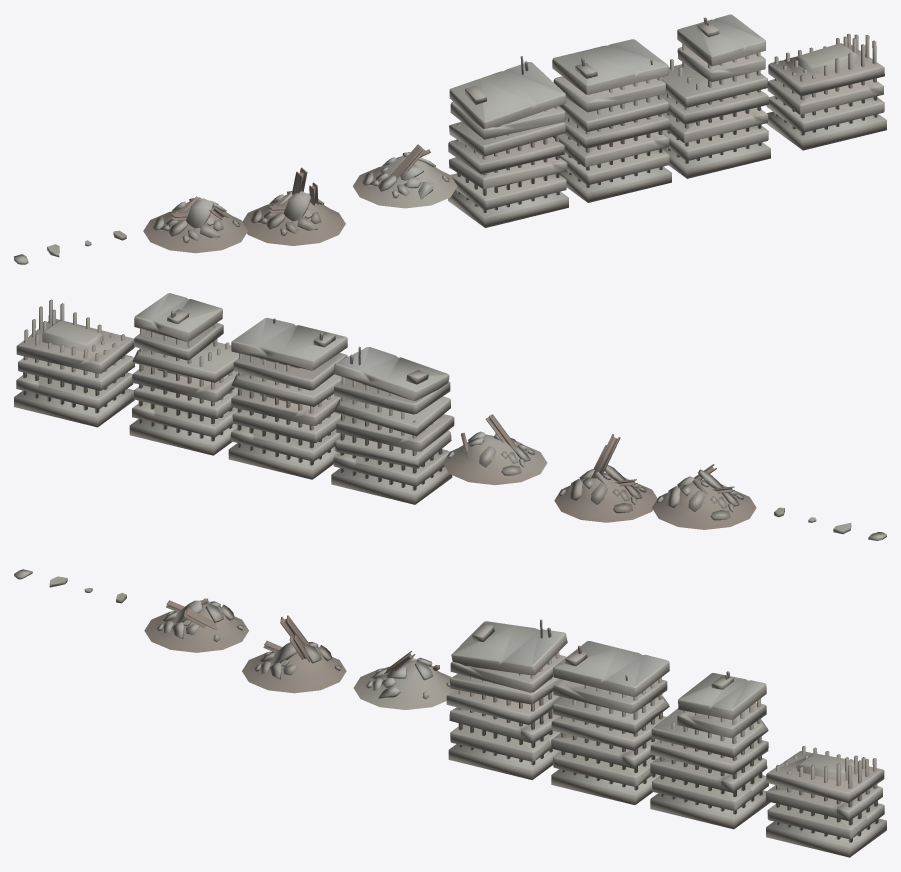
Rendered from Battlefield_Ruins_A.fbx.
3 views of the same model, one above another, from view 1: azimuth 30°, elevation 25°; view 2: azimuth 150°, elevation 25°; view 3: azimuth 330°, elevation 25° (orthographic).
Visible parts, largest first — view 1: RuinsC, RuinsB, RuinsA, RuinsD, RubbleC, RubbleA, RubbleB; view 2: RuinsC, RuinsB, RuinsA, RuinsD, RubbleC, RubbleA, RubbleB; view 3: RuinsB, RuinsC, RuinsA, RuinsD, RubbleC, RubbleB, RubbleA.
Part boxes in pixels (bbox=[...]): RuinsC: bbox=[448, 56, 568, 227]; RuinsB: bbox=[552, 39, 671, 202]; RuinsA: bbox=[661, 14, 770, 178]; RuinsD: bbox=[766, 34, 886, 150]; RubbleC: bbox=[242, 167, 345, 245]; RubbleA: bbox=[353, 144, 457, 208]; RubbleB: bbox=[143, 196, 247, 253]; RuinsC: bbox=[331, 346, 454, 504]; RuinsB: bbox=[228, 318, 347, 479]; RuinsA: bbox=[129, 293, 243, 455]; RuinsD: bbox=[14, 299, 134, 427]; RubbleC: bbox=[554, 434, 657, 522]; RubbleA: bbox=[443, 414, 547, 485]; RubbleB: bbox=[652, 464, 756, 529]; RuinsB: bbox=[551, 641, 669, 804]; RuinsC: bbox=[446, 619, 567, 779]; RuinsA: bbox=[650, 671, 770, 829]; RuinsD: bbox=[766, 746, 886, 857]; RubbleC: bbox=[242, 615, 346, 693]; RubbleB: bbox=[144, 598, 248, 652]; RubbleA: bbox=[353, 650, 455, 709].
Bounding box in the file's own units: 35.98 × 5.46 × 3.84.
1 material, 1 textured.
